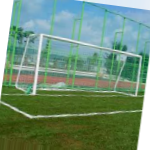goals: (14, 31, 144, 100)
